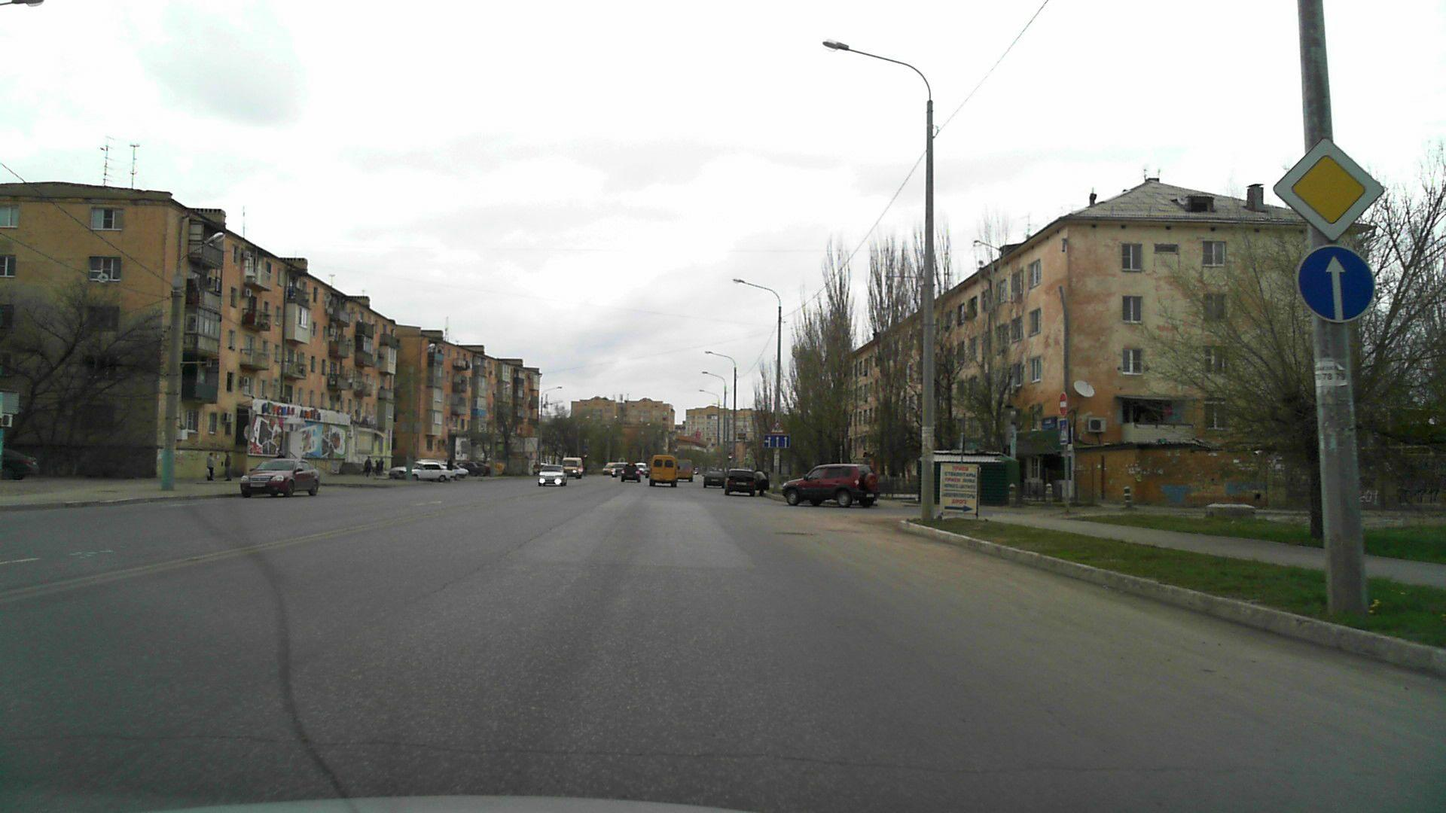road_sign: (1265, 130, 1391, 248), (1296, 245, 1379, 324), (764, 434, 790, 448)
